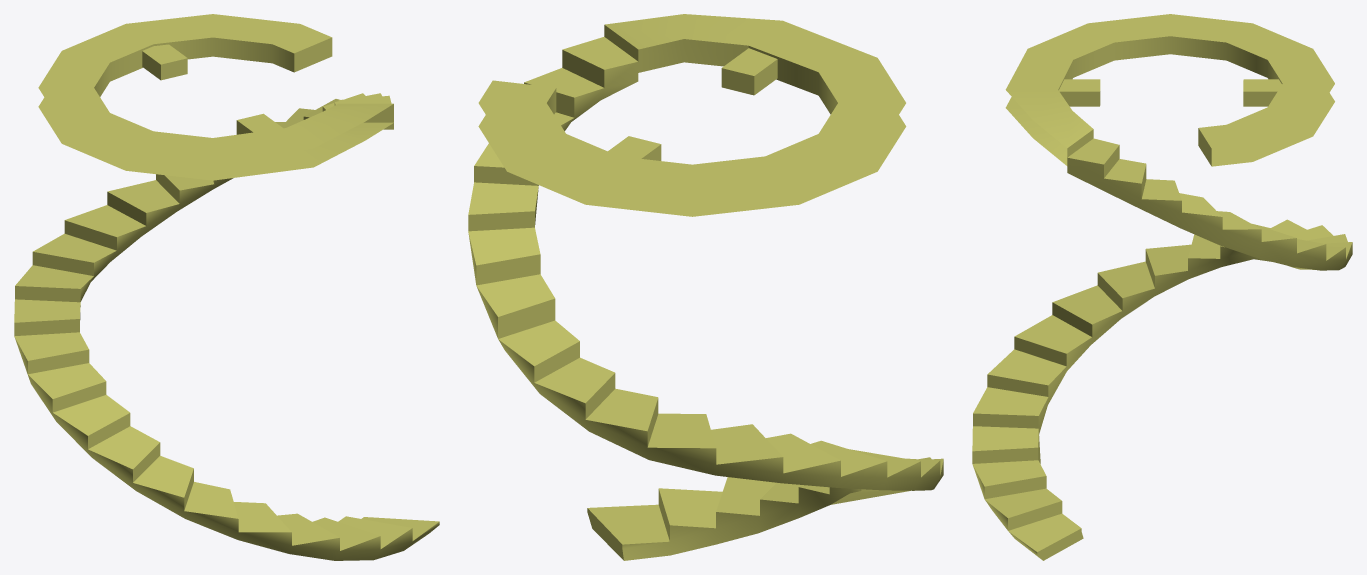
Rendered from escaleras.fbx.
The picture shows the model from 3 angles, left to right: view 1: azimuth 30°, elevation 25°; view 2: azimuth 150°, elevation 25°; view 3: azimuth 270°, elevation 25°; orthographic projection. The views are drawn at different scales.
Visible parts, largest first — view 1: andamios1; view 2: andamios1; view 3: andamios1.
Boxes of the visible parts, x1=… form: andamios1: x1=14, y1=14, x2=439, y2=560; andamios1: x1=468, y1=14, x2=943, y2=560; andamios1: x1=972, y1=14, x2=1352, y2=560.
Bounding box in the file's own units: 13.84 × 14.65 × 17.37.
